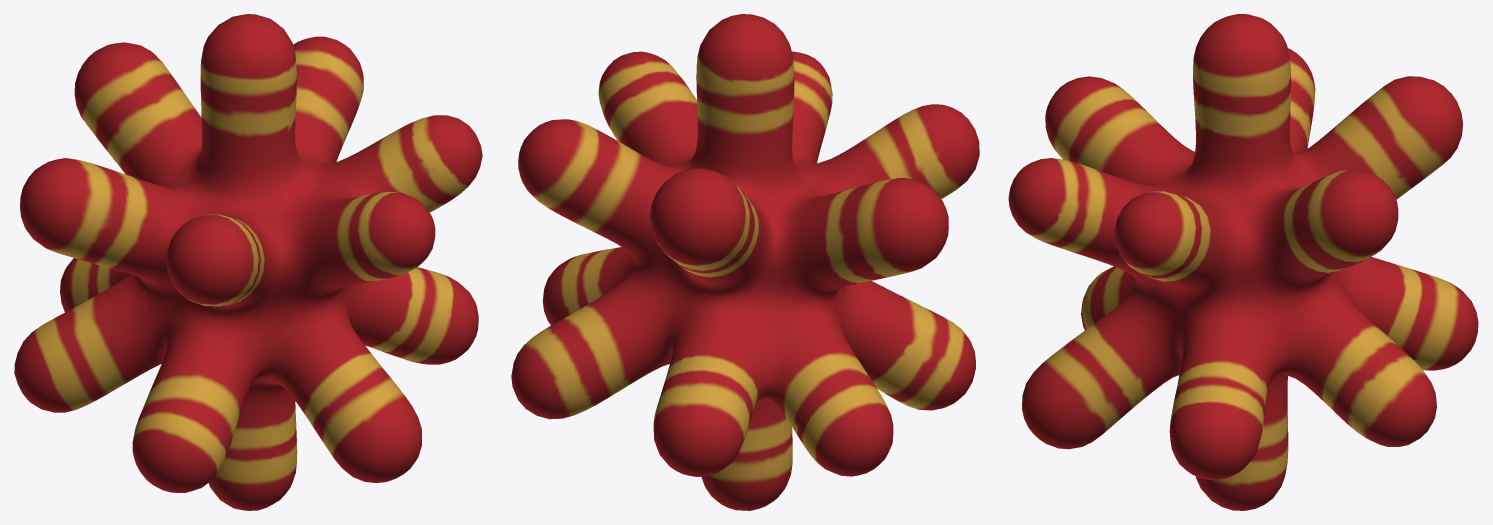
The model's file is planetH.gltf.
3 renders of one model, left to right at view 1: azimuth 30°, elevation 25°; view 2: azimuth 150°, elevation 25°; view 3: azimuth 270°, elevation 25°, orthographic.
Parts seen in each view (by area): view 1: planetH; view 2: planetH; view 3: planetH.
Boxes of the visible parts, x1,y1,x2,y2 form: planetH: (14,14,482,510); planetH: (511,14,979,510); planetH: (1008,14,1478,510).
Bounding box in the file's own units: 3.64 × 4.03 × 3.52.
Materials: 1 (1 with a texture image).
